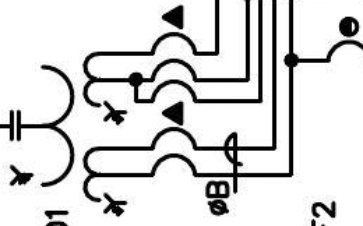115_cvt_3p: (9, 51, 129, 218)
